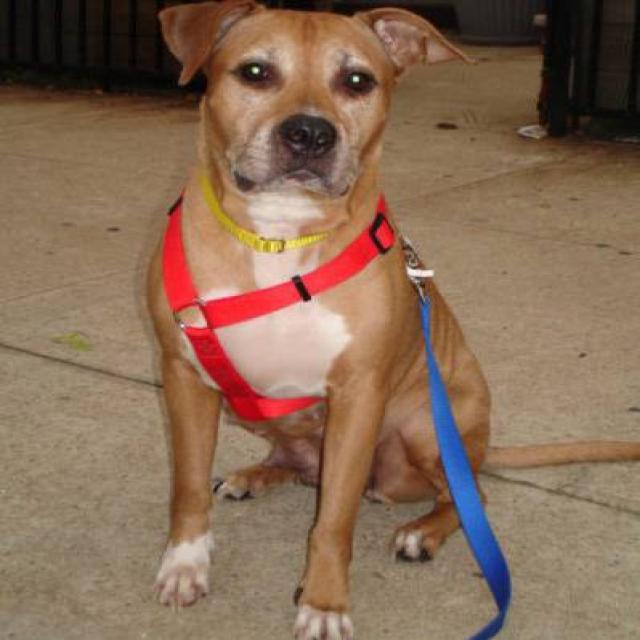dog: (142, 0, 638, 639)
